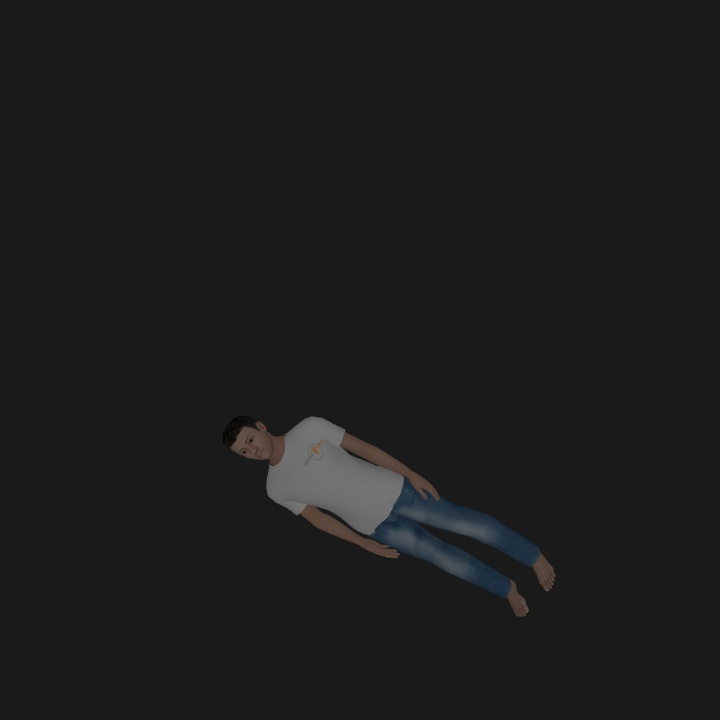victim: (224, 414, 557, 619)
